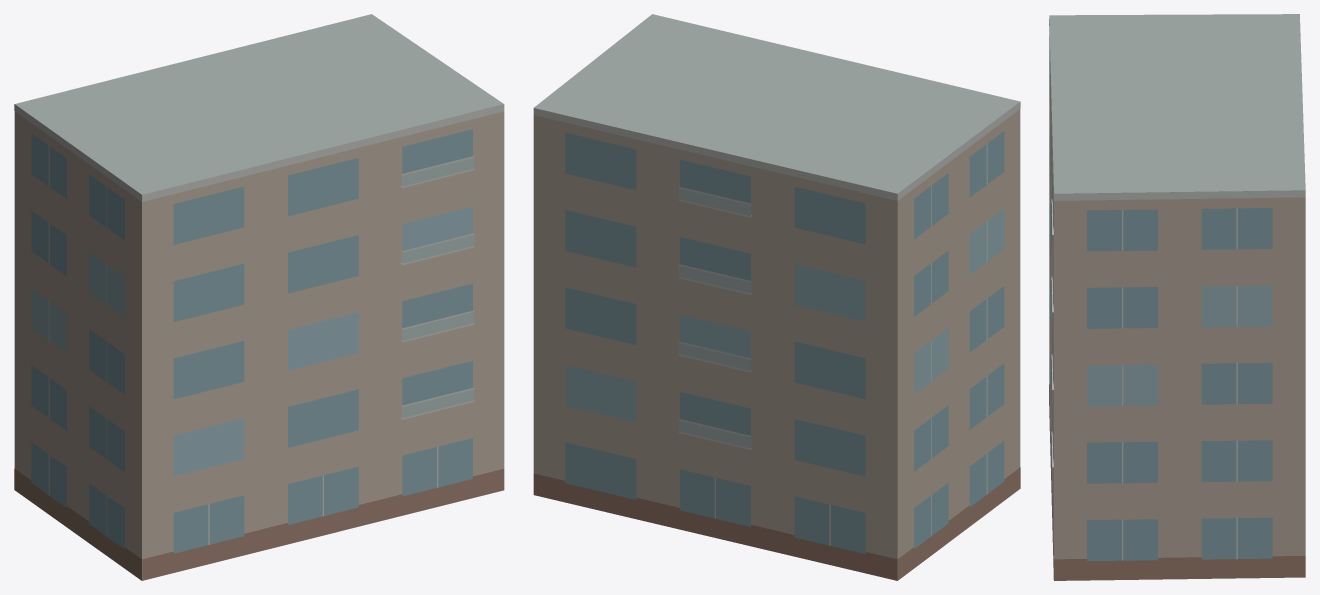
The model's file is survey-upis-32891724.glb.
3 views of the same model, side by side, from view 1: azimuth 30°, elevation 25°; view 2: azimuth 150°, elevation 25°; view 3: azimuth 270°, elevation 25° (orthographic).
Visible parts, largest first — view 1: survey-upis-32891724.tmp; view 2: survey-upis-32891724.tmp; view 3: survey-upis-32891724.tmp.
Part boxes in pixels (x1,y1,x2,y2): survey-upis-32891724.tmp: (14,14,504,580); survey-upis-32891724.tmp: (533,14,1020,580); survey-upis-32891724.tmp: (1049,14,1305,580).
Bounding box in the file's own units: 13.15 × 13.2 × 7.94.
